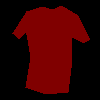abbigliamento_uomo: (12, 5, 90, 94)
